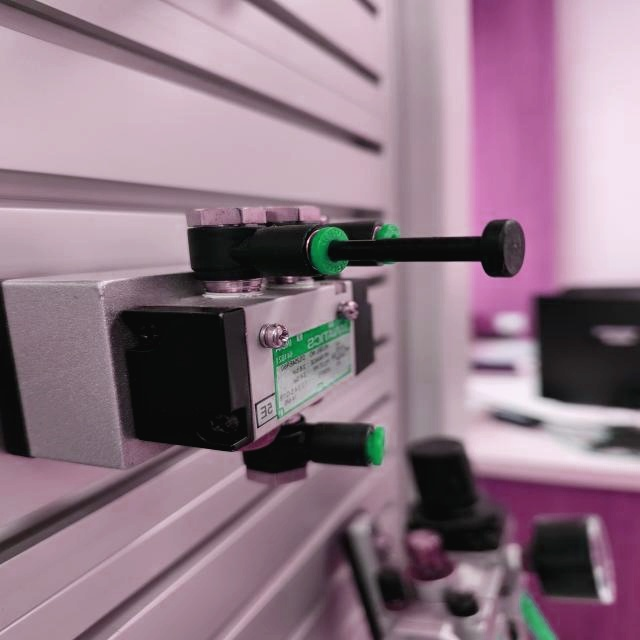5by2 DCV: (0, 188, 536, 496)
